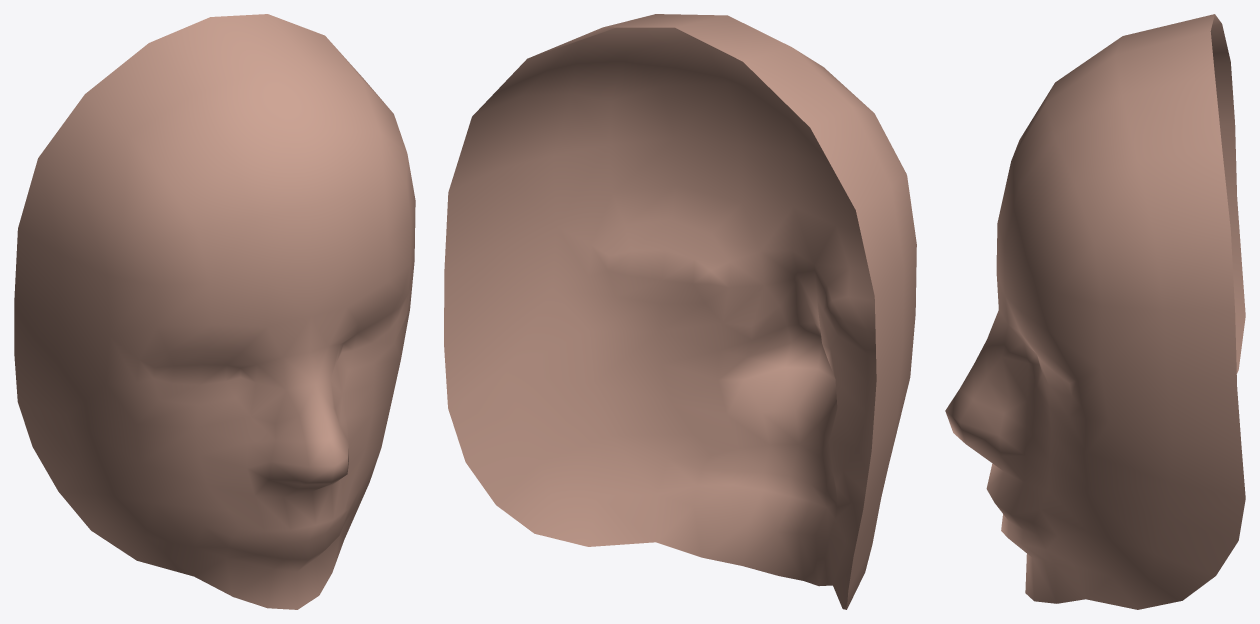
The model's file is head.fbx.
The picture shows the model from 3 angles, left to right: view 1: azimuth 30°, elevation 25°; view 2: azimuth 150°, elevation 25°; view 3: azimuth 270°, elevation 25°; orthographic projection. The views are drawn at different scales.
Parts seen in each view (by area): view 1: woman; view 2: woman; view 3: woman.
Boxes of the visible parts, bbox=[...] form: woman: bbox=[14, 14, 415, 609]; woman: bbox=[444, 14, 916, 609]; woman: bbox=[945, 14, 1245, 609].
Size of the model in its own units: 1.89 by 2.6 by 1.26.
